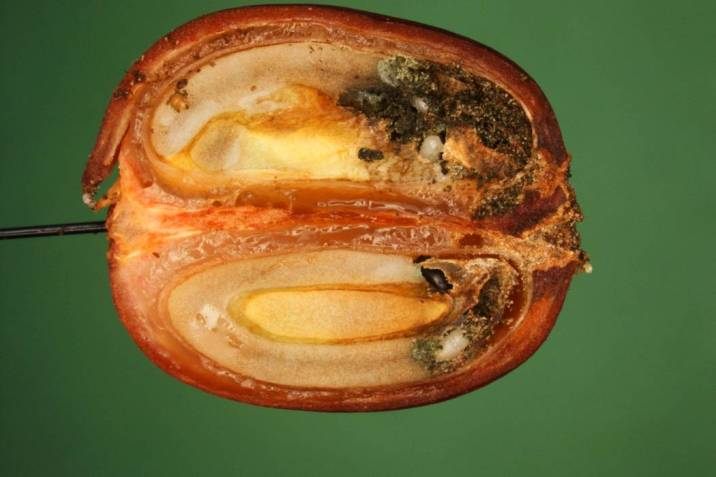broca de cafe: (114, 22, 581, 401)
